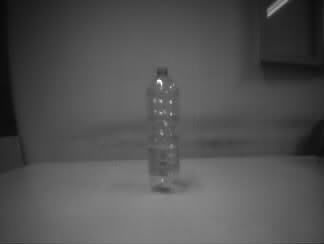Bottle: (145, 65, 181, 194)
